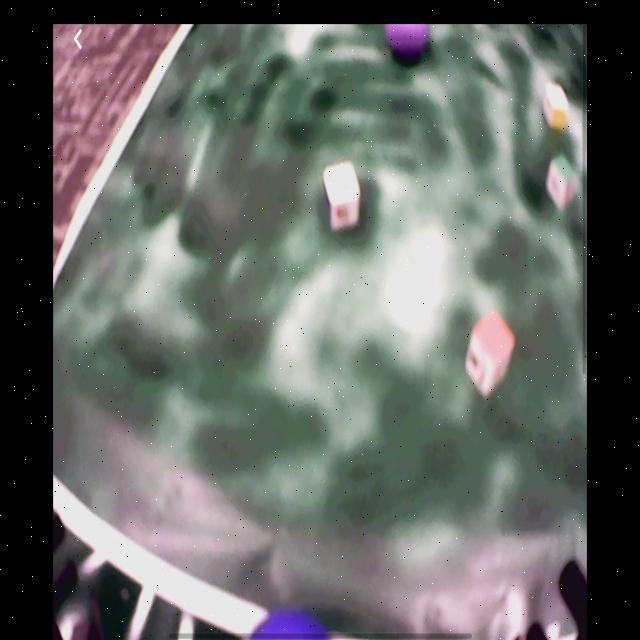ball: (249, 611, 332, 640), (385, 24, 431, 59)
